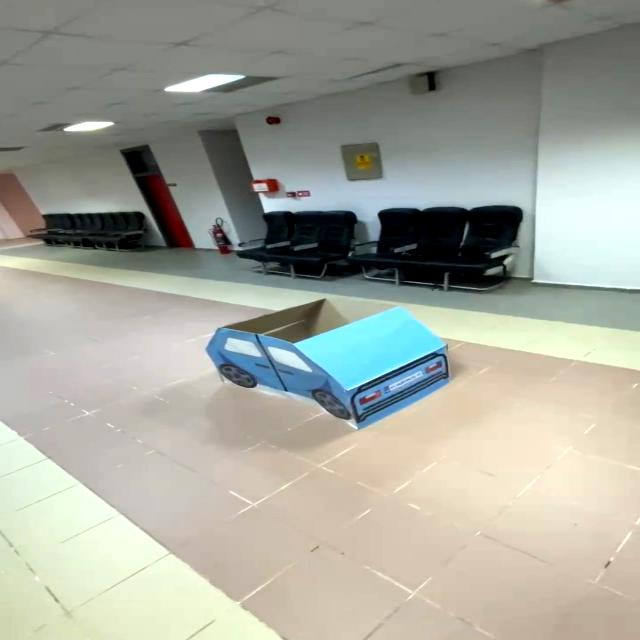blue_car: (199, 286, 459, 435)
